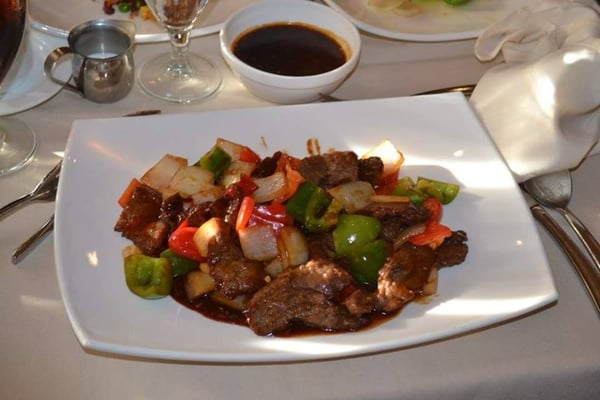sandwich: (467, 47, 600, 319)
sushi: (219, 0, 362, 103)
